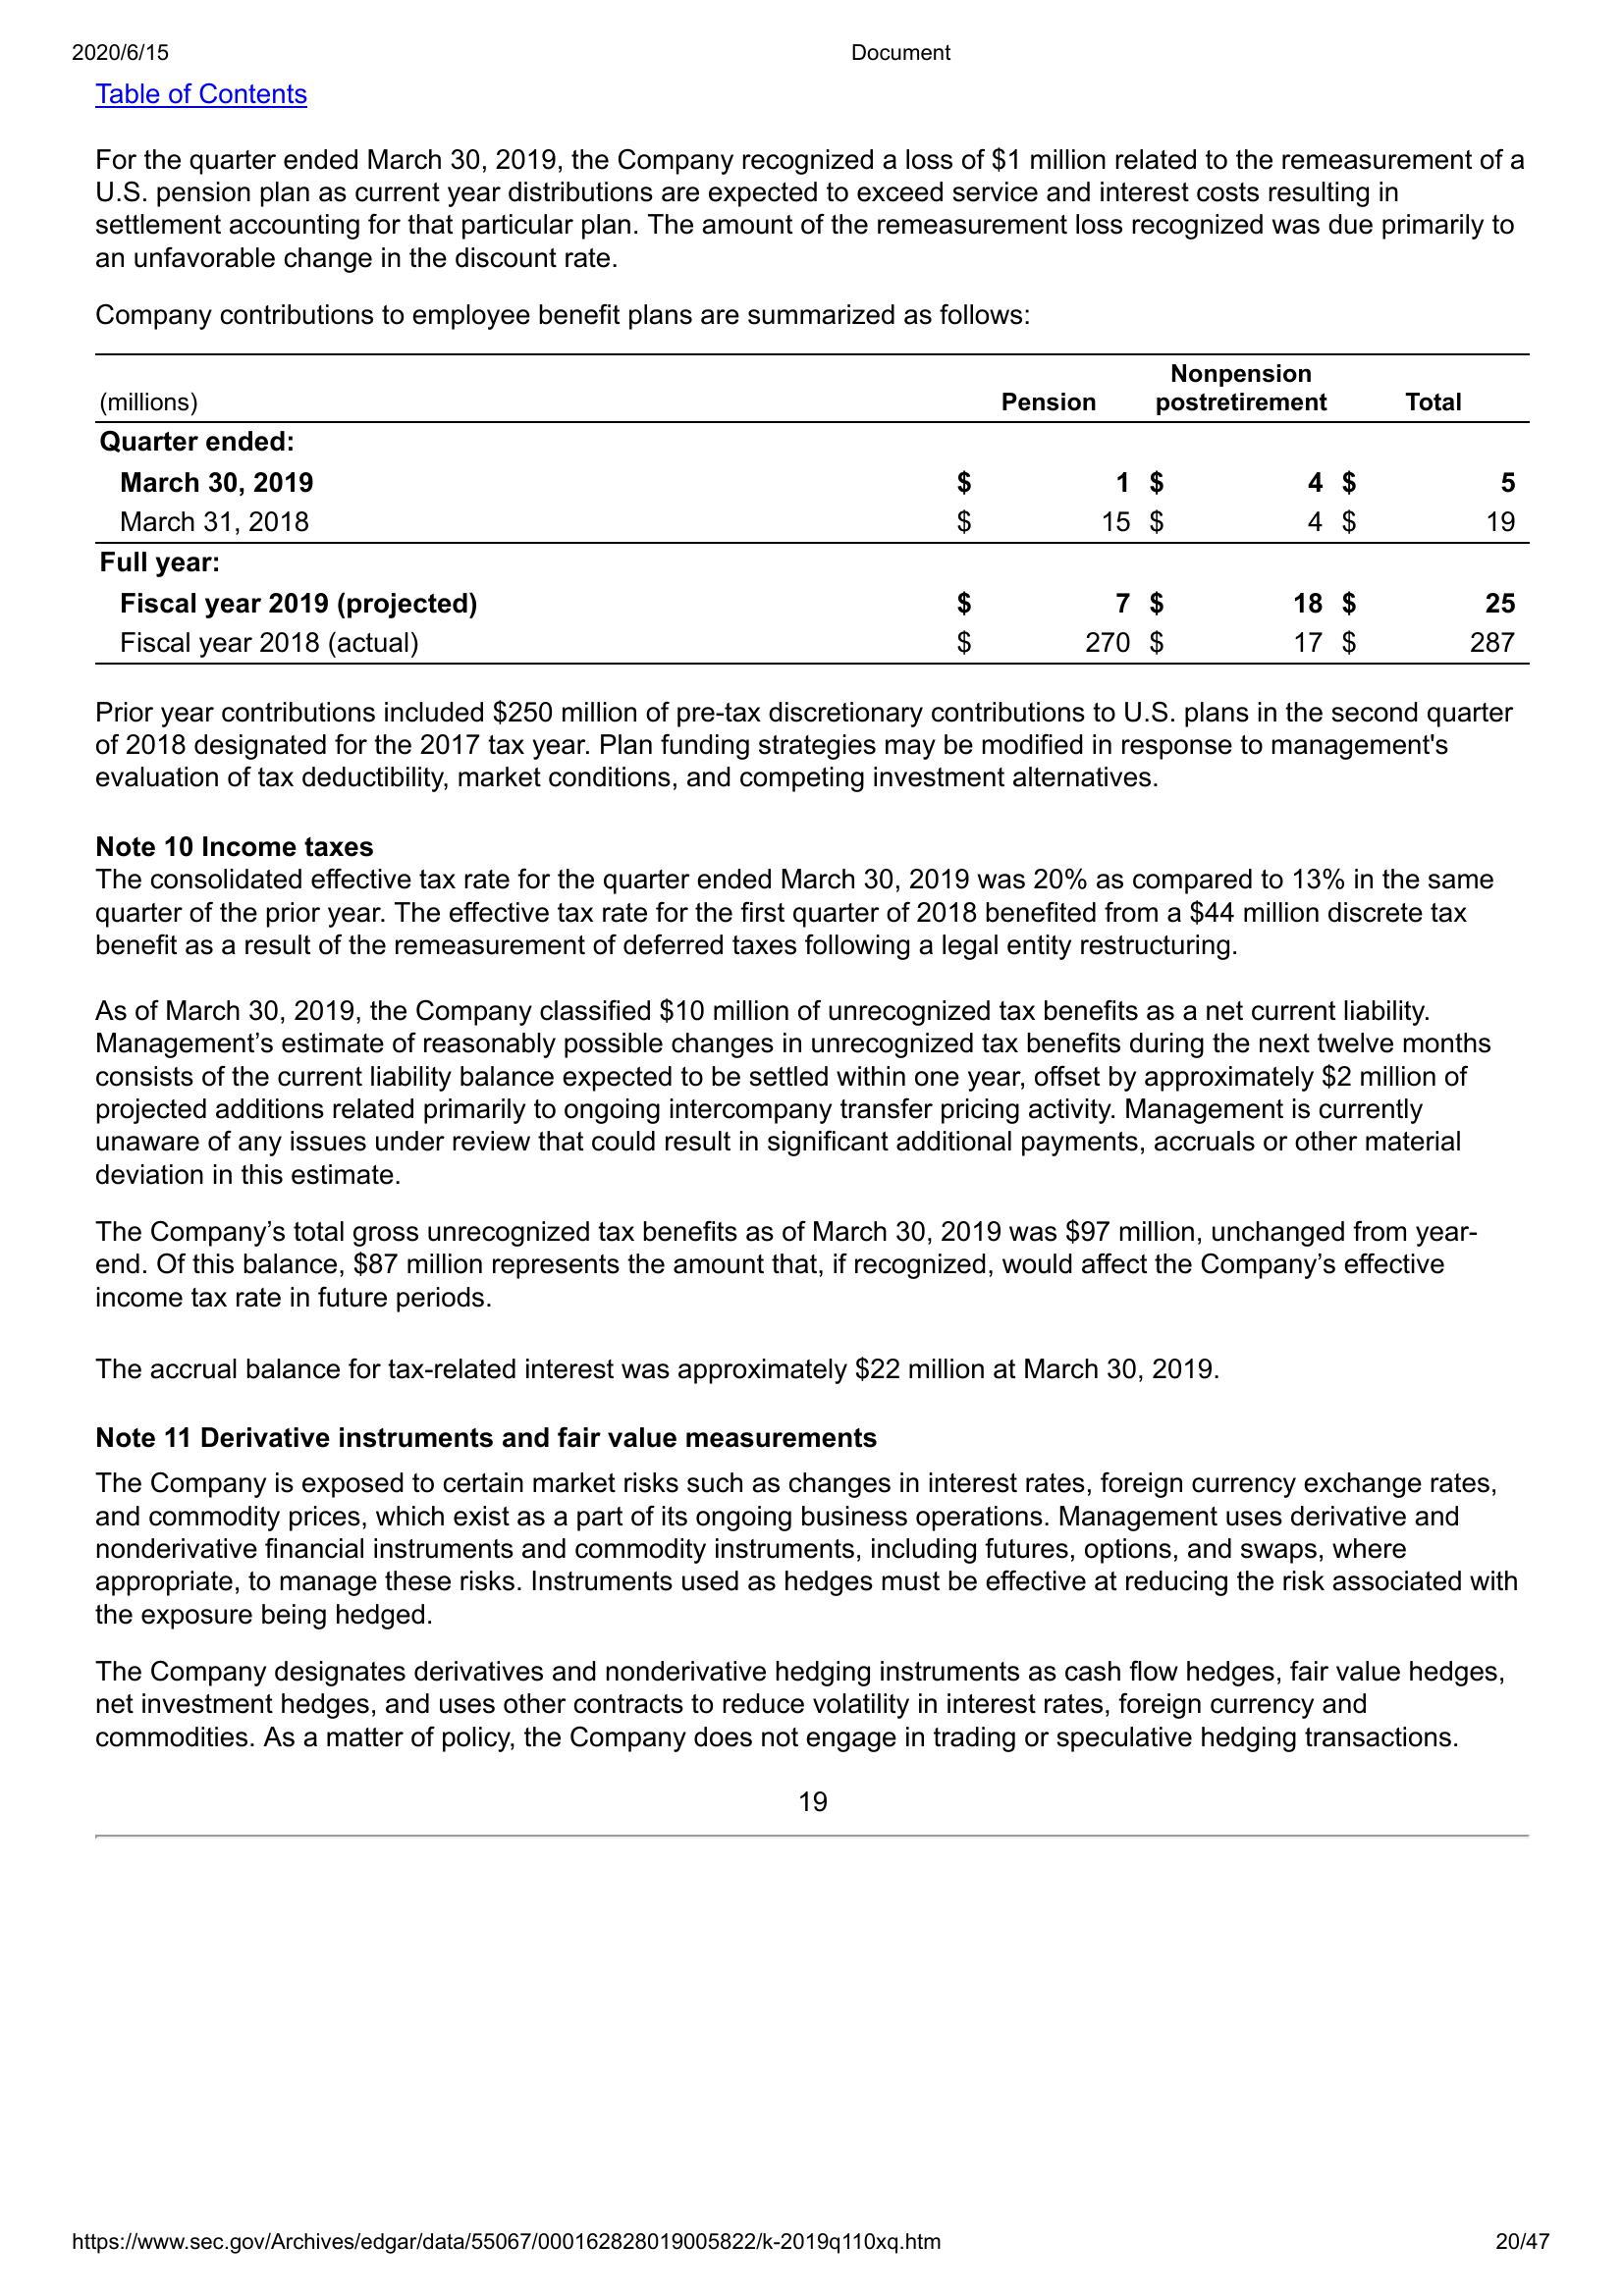table: (88, 346, 1540, 672)
